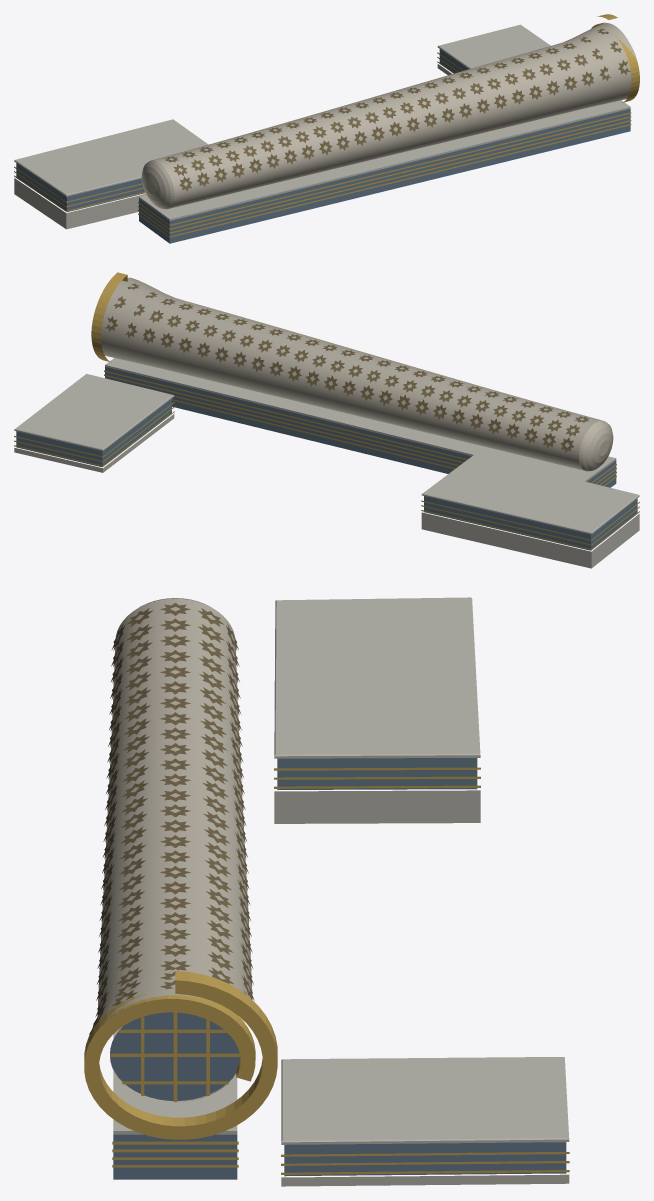
Rendered from baku-carpet-museum.detail.glb.
The picture shows the model from 3 angles, top to bottom: view 1: azimuth 30°, elevation 25°; view 2: azimuth 150°, elevation 25°; view 3: azimuth 270°, elevation 25°; orthographic projection. The views are drawn at different scales.
Parts seen in each view (by area): view 1: Azerbaijan Carpet Museum; view 2: Azerbaijan Carpet Museum; view 3: Azerbaijan Carpet Museum.
Part boxes in pixels (bbox=[...]): Azerbaijan Carpet Museum: bbox=[14, 14, 639, 243]; Azerbaijan Carpet Museum: bbox=[14, 272, 639, 568]; Azerbaijan Carpet Museum: bbox=[84, 597, 569, 1186].
Size of the model in its own units: 123 by 22.38 by 48.58.
